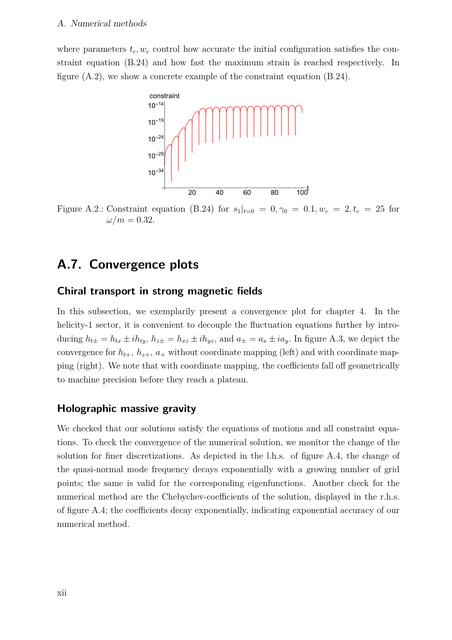box: (147, 90, 312, 199)
